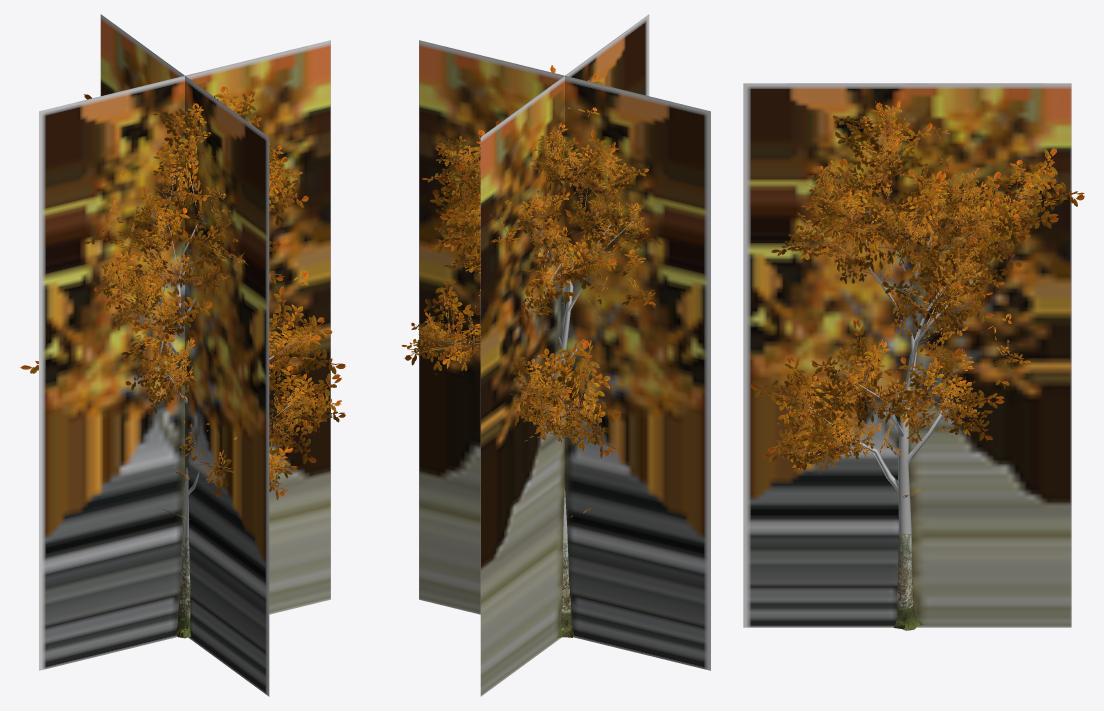
Rendered from Tree-Beech1B.fbx.
The picture shows the model from 3 angles, left to right: view 1: azimuth 30°, elevation 25°; view 2: azimuth 150°, elevation 25°; view 3: azimuth 270°, elevation 25°; orthographic projection. The views are drawn at different scales.
Parts seen in each view (by area): view 1: Billboard-BeechB, Tree-Beech1B_LOD0; view 2: Billboard-BeechB, Tree-Beech1B_LOD0; view 3: Billboard-BeechB, Tree-Beech1B_LOD0.
Boxes of the visible parts, x1,y1,x2,y2 form: Billboard-BeechB: (39,14,330,696); Tree-Beech1B_LOD0: (20,85,345,638); Billboard-BeechB: (419,14,710,696); Tree-Beech1B_LOD0: (401,65,661,637); Billboard-BeechB: (743,83,1071,627); Tree-Beech1B_LOD0: (750,100,1084,630).
Size of what is drawn, in the model's own units: 1305 by 2354 by 1374.
